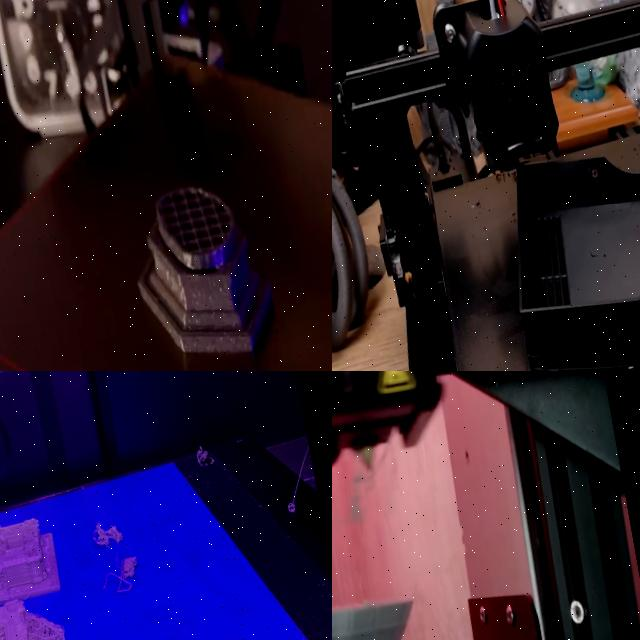spaghetti: (332, 464, 462, 640), (73, 490, 146, 598)
